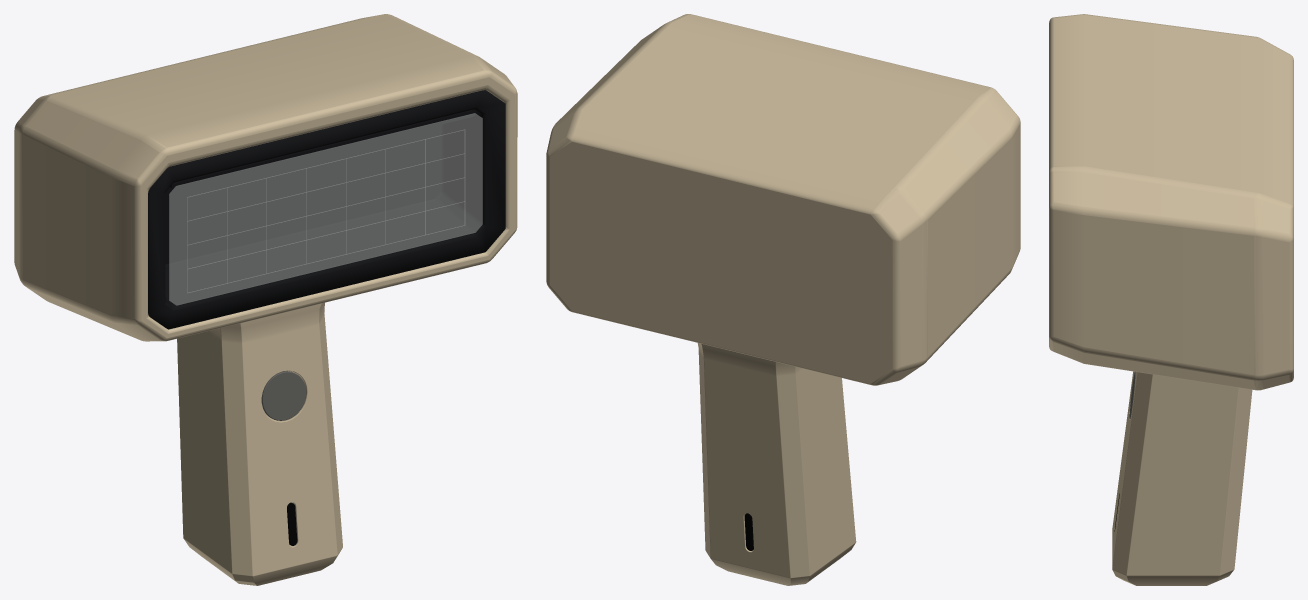
Rendered from scanner.glb.
The picture shows the model from 3 angles, left to right: view 1: azimuth 30°, elevation 25°; view 2: azimuth 150°, elevation 25°; view 3: azimuth 270°, elevation 25°; orthographic projection. The views are drawn at different scales.
Visible parts, largest first — view 1: BodyShell, VisorCavity, VisorGlass, GripBody, VisorStrip, GripButton; view 2: BodyShell, GripBody; view 3: BodyShell, GripBody.
Part boxes in pixels (x1,y1,x2,y2): BodyShell: (14,14,517,341); VisorCavity: (148,90,505,329); VisorGlass: (169,113,482,305); GripBody: (177,302,342,585); VisorStrip: (170,110,475,189); GripButton: (261,371,306,420); BodyShell: (546,14,1020,385); GripBody: (697,343,856,585); BodyShell: (1049,14,1293,390); GripBody: (1112,371,1252,585).
Size of the model in its own units: 0.1 by 0.12 by 0.056.
